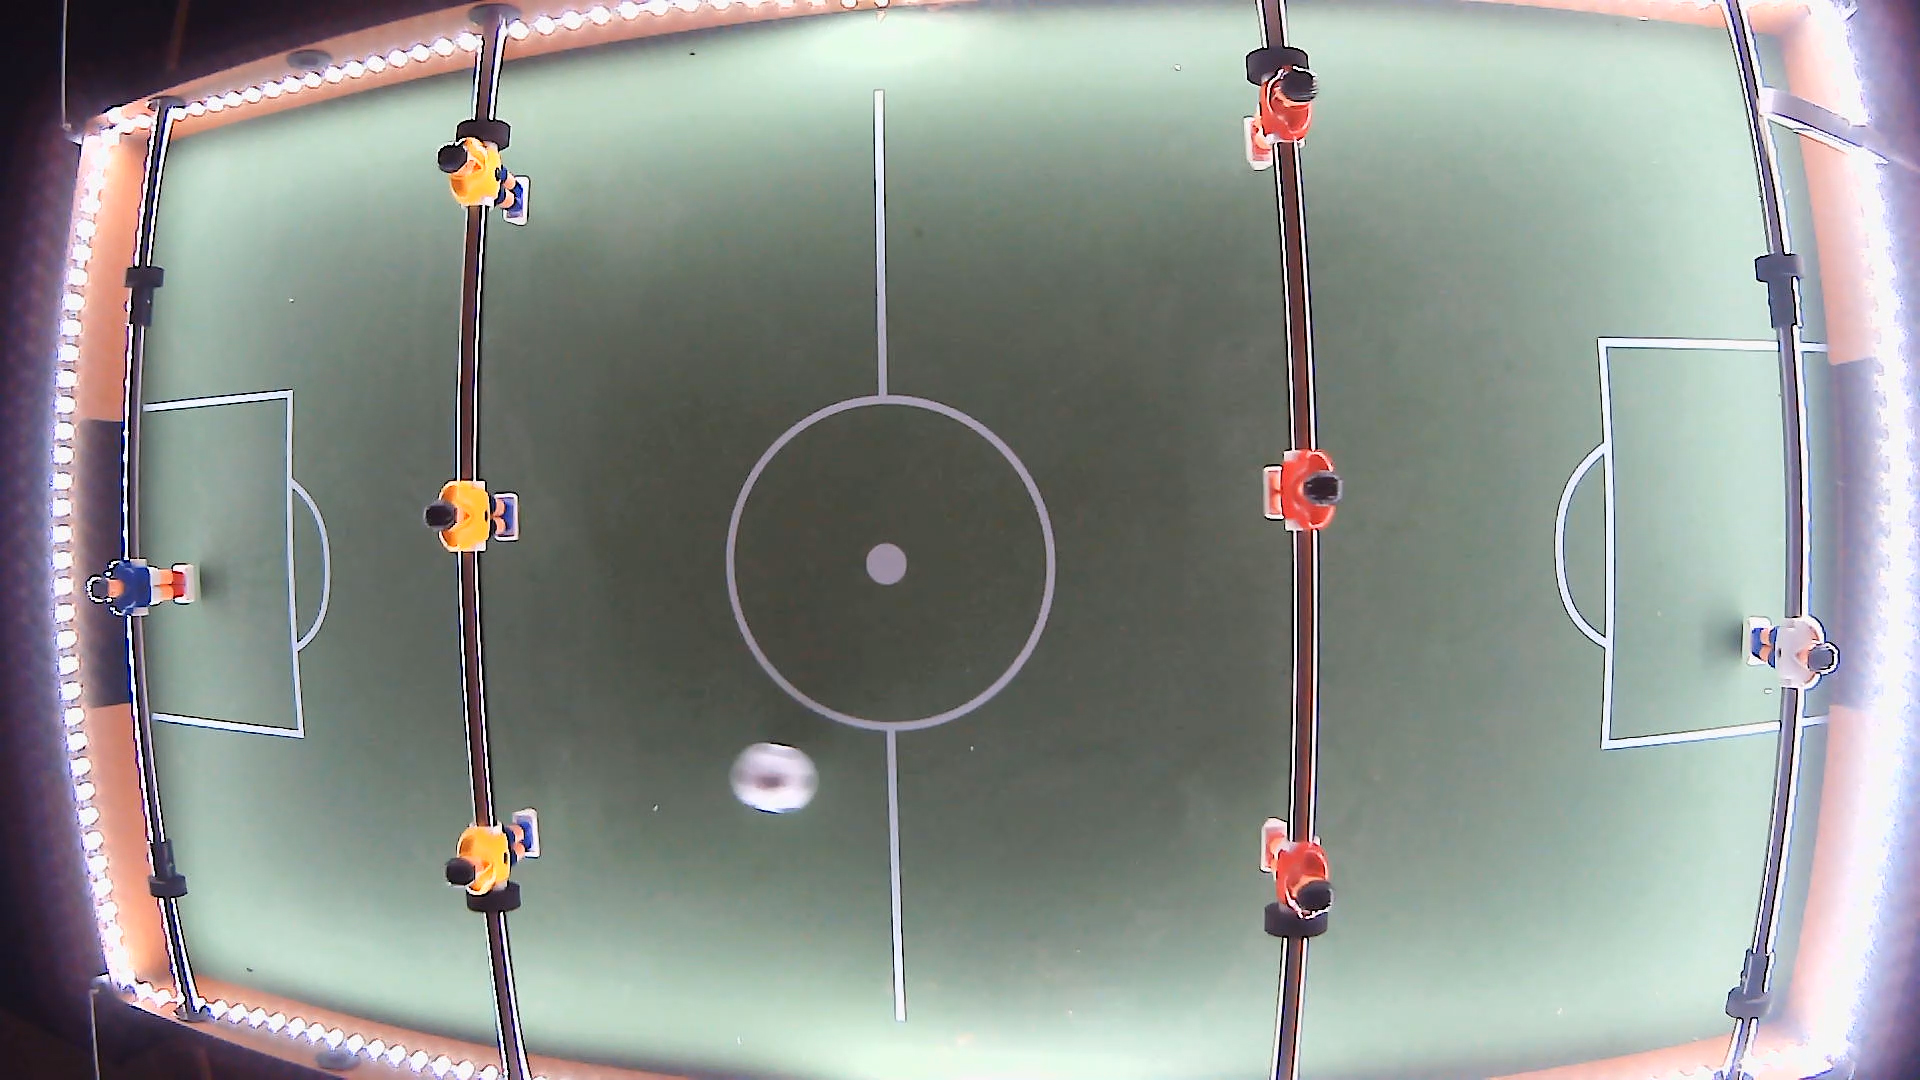Foosball: (728, 742, 819, 815)
